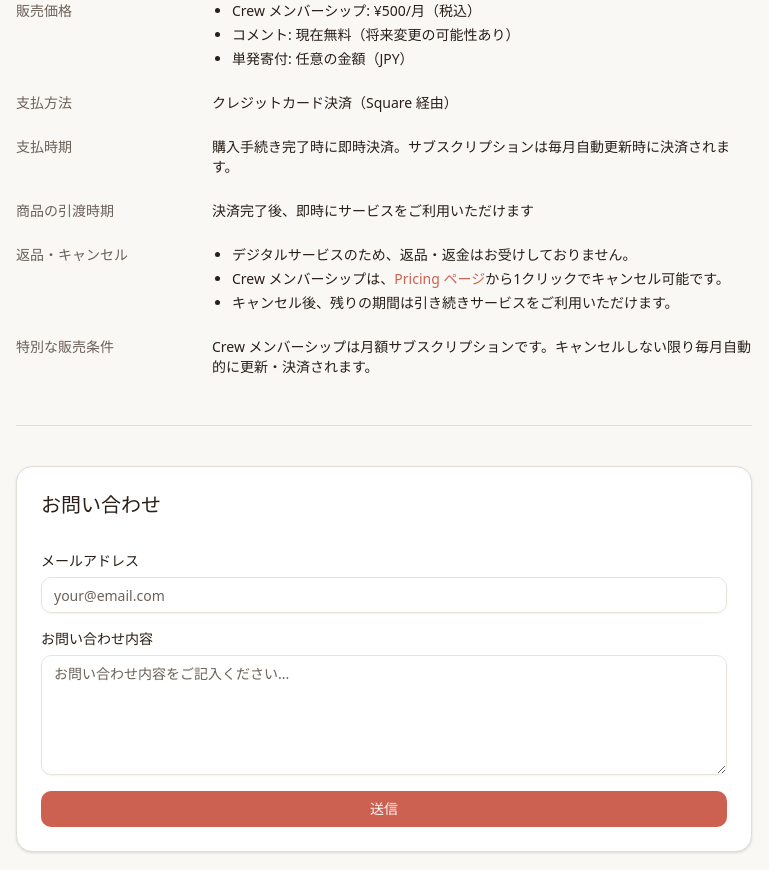
it: Legal › submits contact form successfully
(page scrolled)
Type "test@example.com" into the field labelled "メールアドレス". click: x=384, y=595
box: [41,577,727,613]
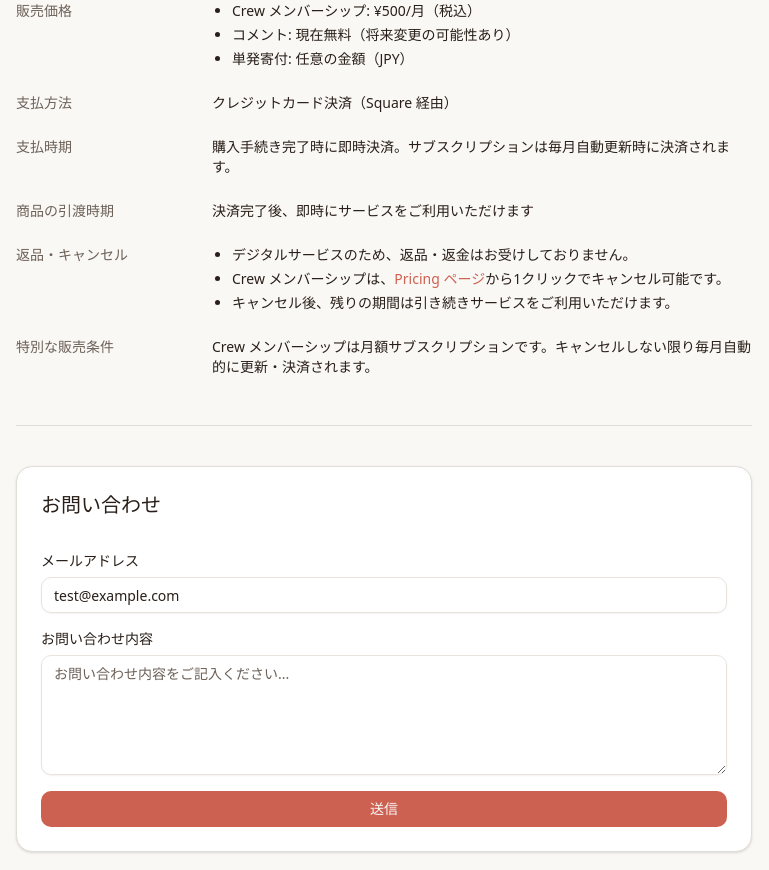
Type "Hello, I have a question." into the text box labelled "お問い合わせ内容". click: x=384, y=715
box: [41,655,727,775]
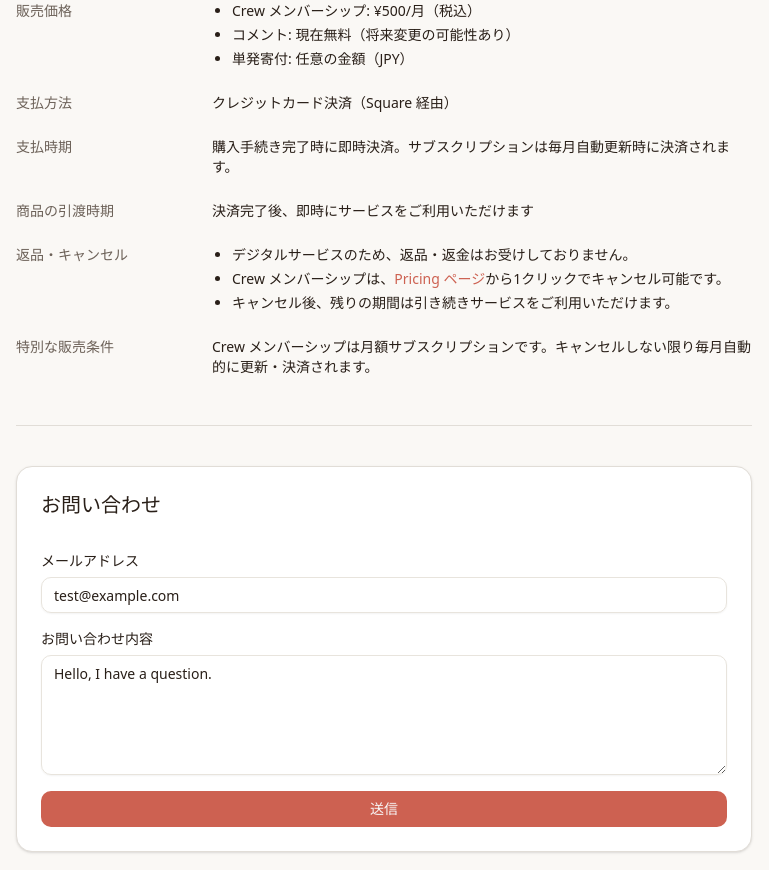
Click the button "送信". click: x=384, y=809
box: [41,791,727,827]
(page scrolled)
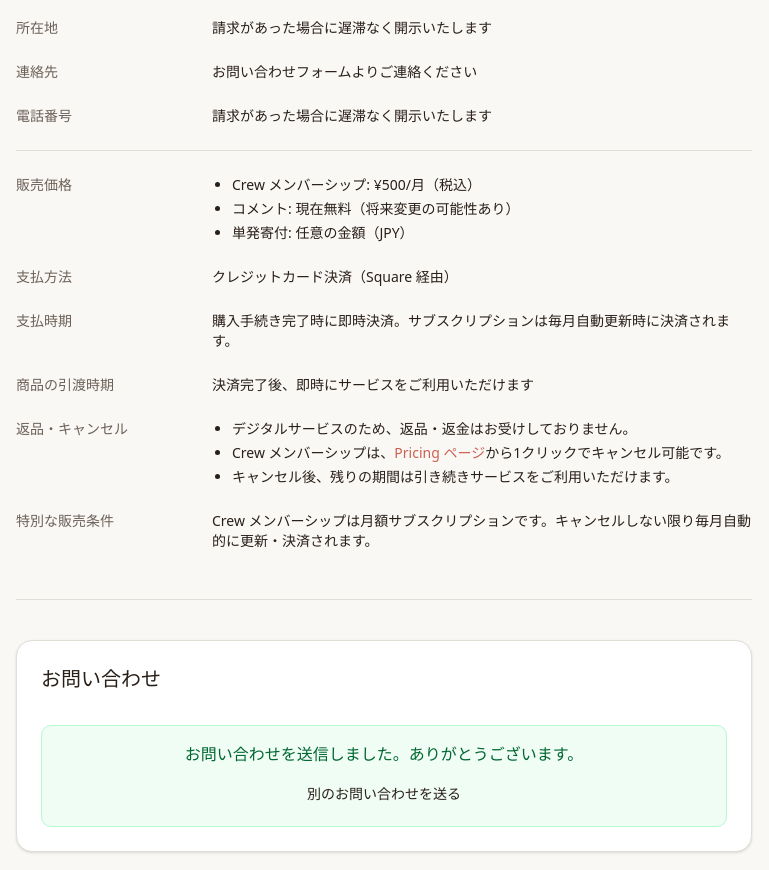
Check: the text "お問い合わせを送信しました。ありがとうございます。" is shown, box [185,743,583,765]
